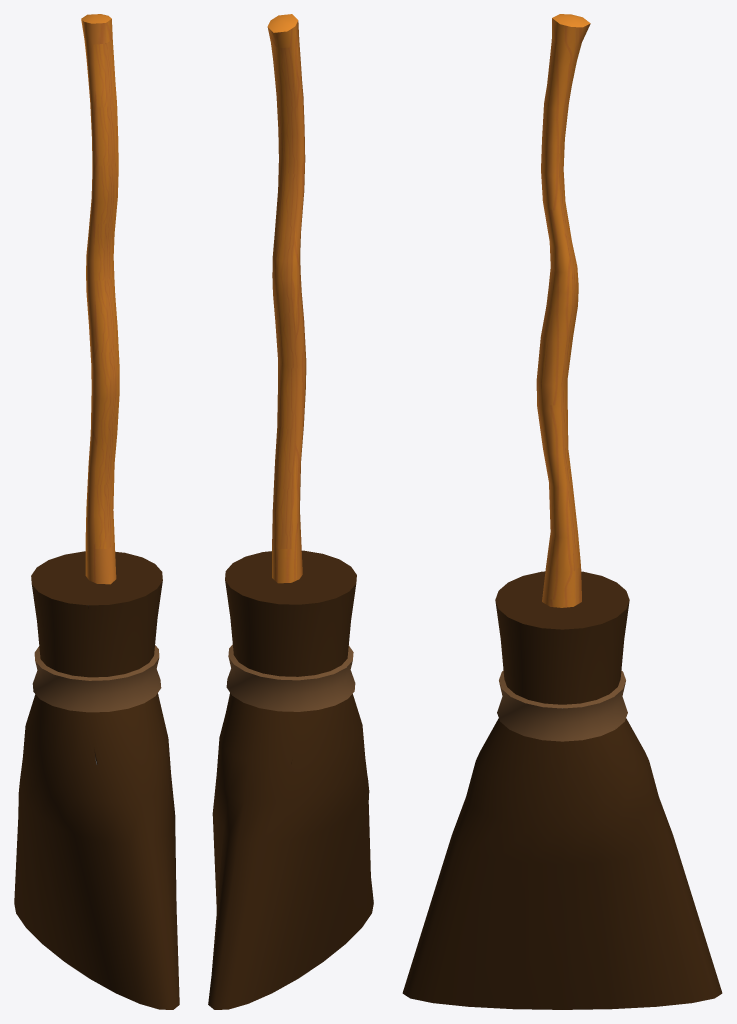
The model's file is broom 1.fbx.
The picture shows the model from 3 angles, left to right: view 1: azimuth 30°, elevation 25°; view 2: azimuth 150°, elevation 25°; view 3: azimuth 270°, elevation 25°; orthographic projection. The views are drawn at different scales.
Visible parts, largest first — view 1: polySurface2; view 2: polySurface2; view 3: polySurface2.
Boxes of the visible parts, x1,y1,x2,y2 form: polySurface2: (14, 14, 179, 1009); polySurface2: (208, 14, 373, 1009); polySurface2: (402, 14, 722, 1009).
Bounding box in the file's own units: 1.43 × 11 × 3.26.
